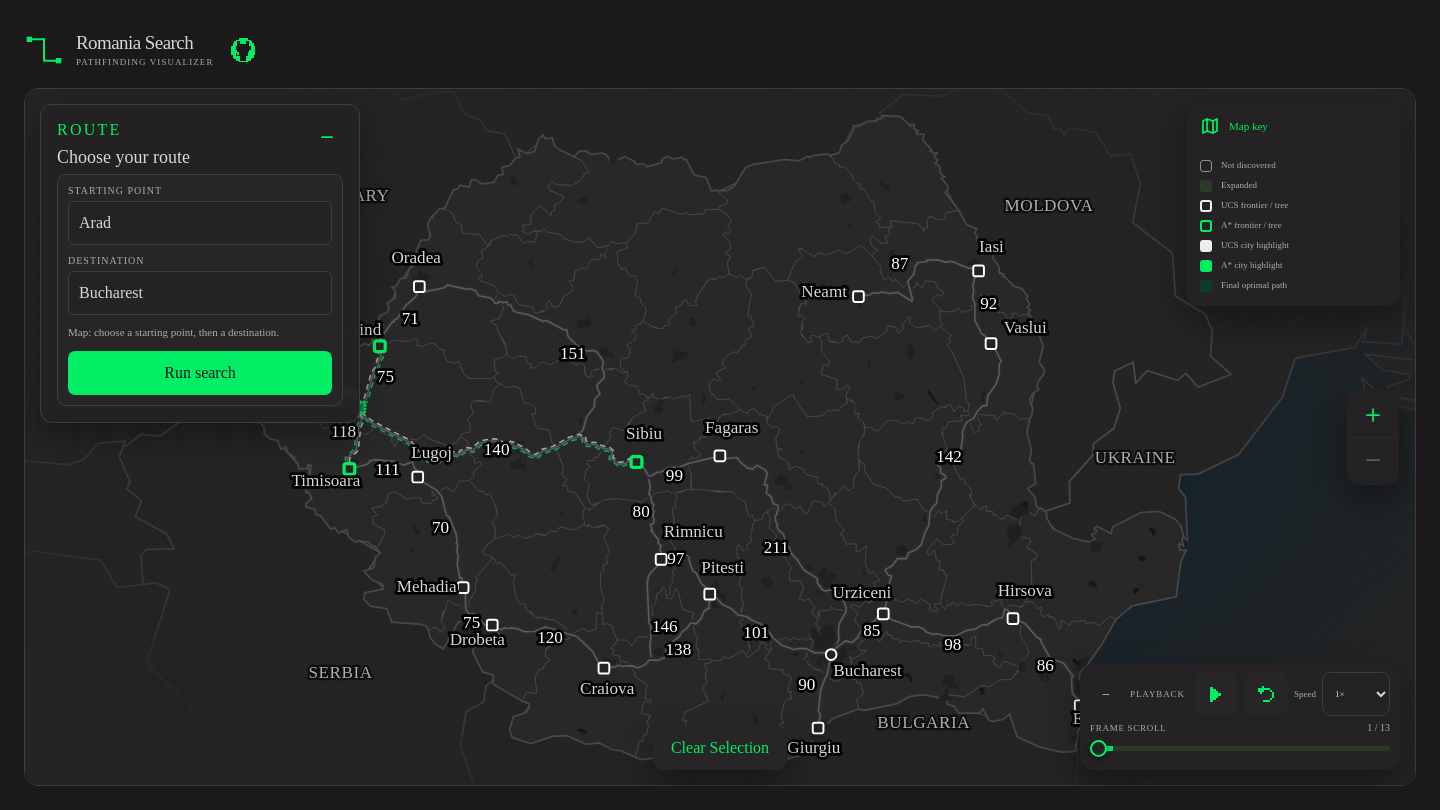
it: RomaniaSearch › collapses the route planner into a compact map button
Click the button named "Hide route planner" at point(327, 137), box [305,115,349,159]
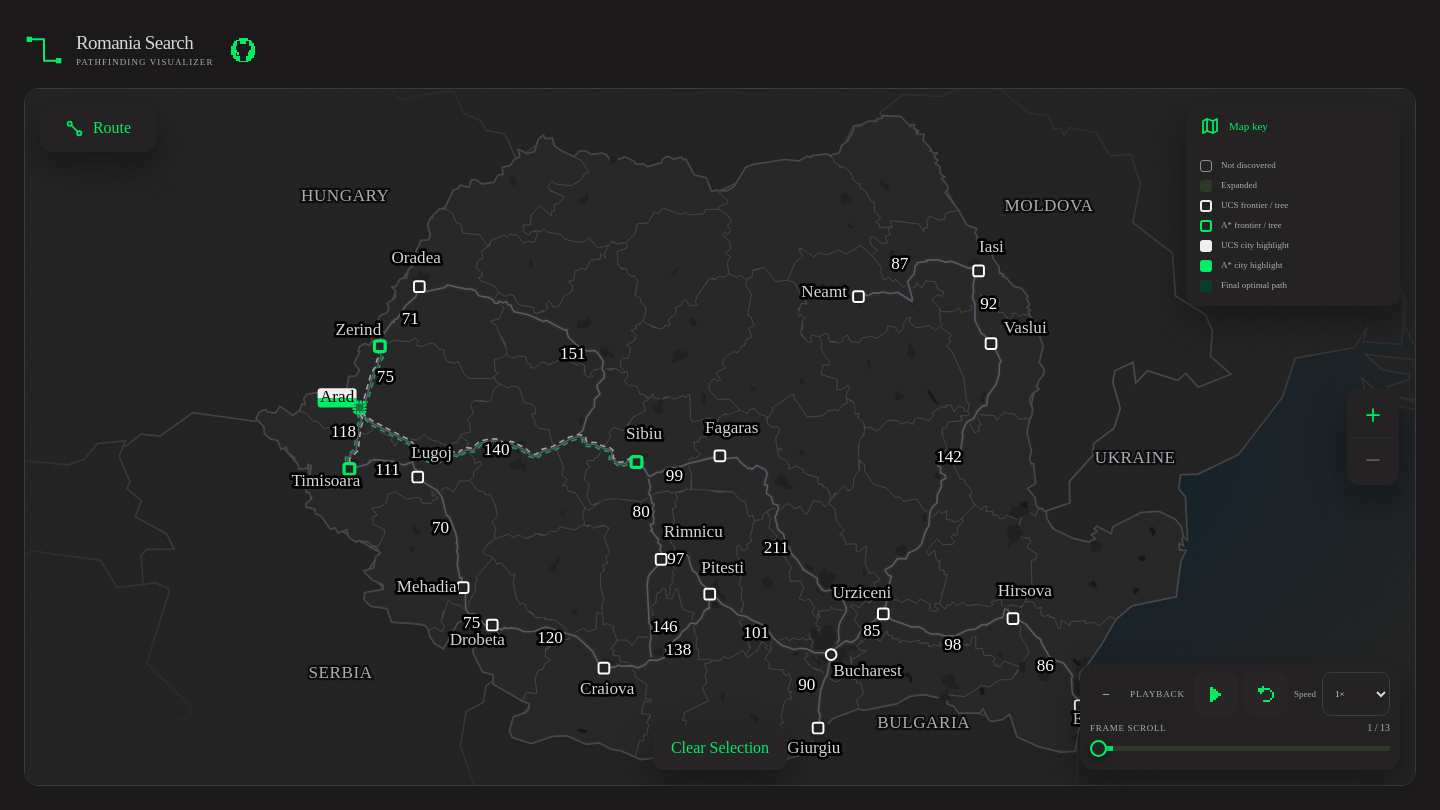
Now the heading "Choose your route" is gone
Click the button "Route" at point(98, 128), box [40,104,156,152]
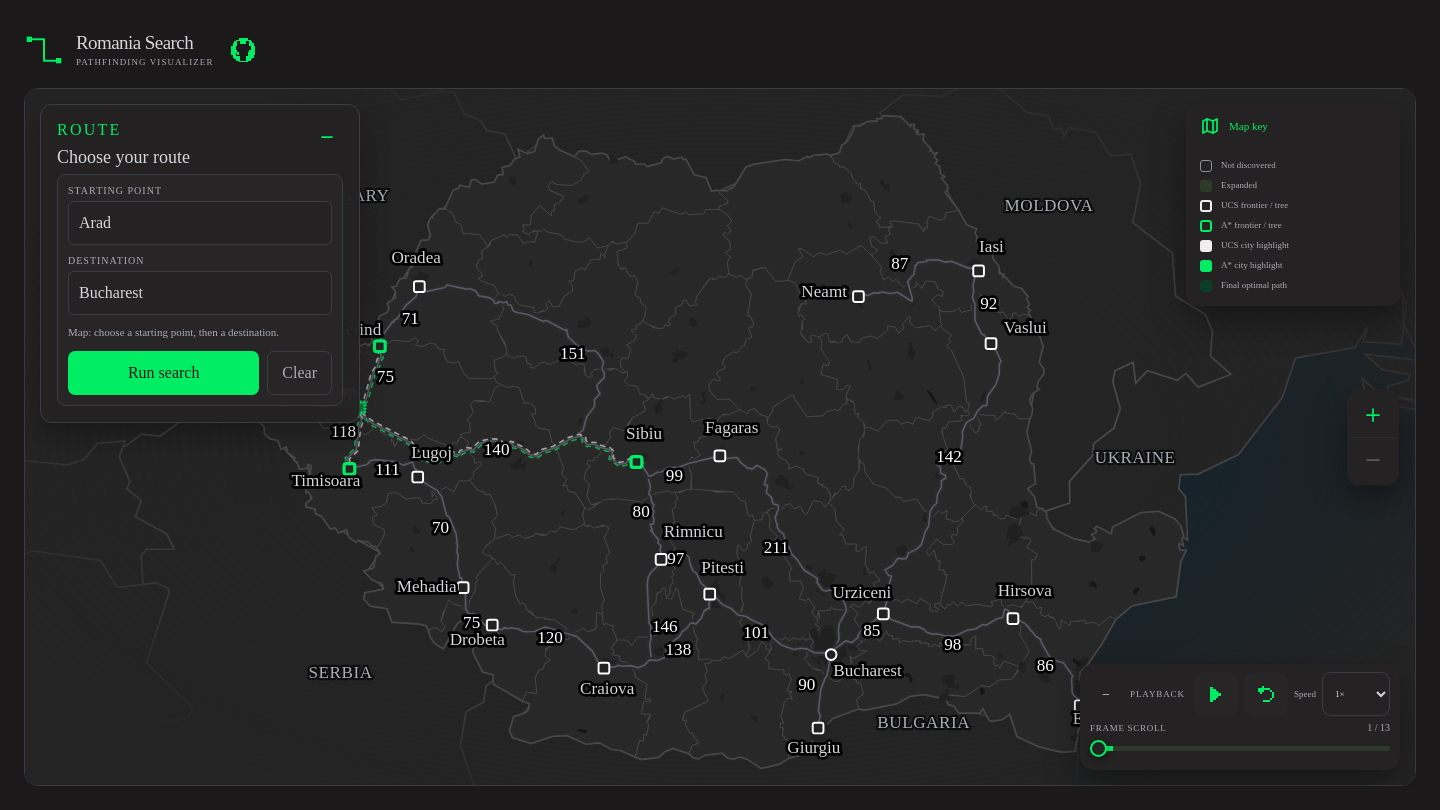
Now the heading "Choose your route" is shown, box [57,147,190,167]
